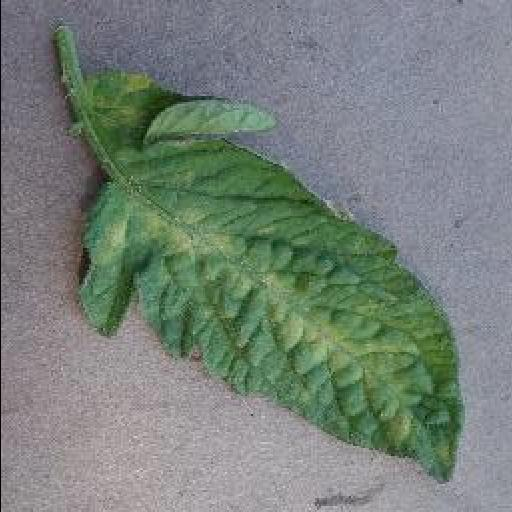disease_tomato: (78, 142, 466, 486)
